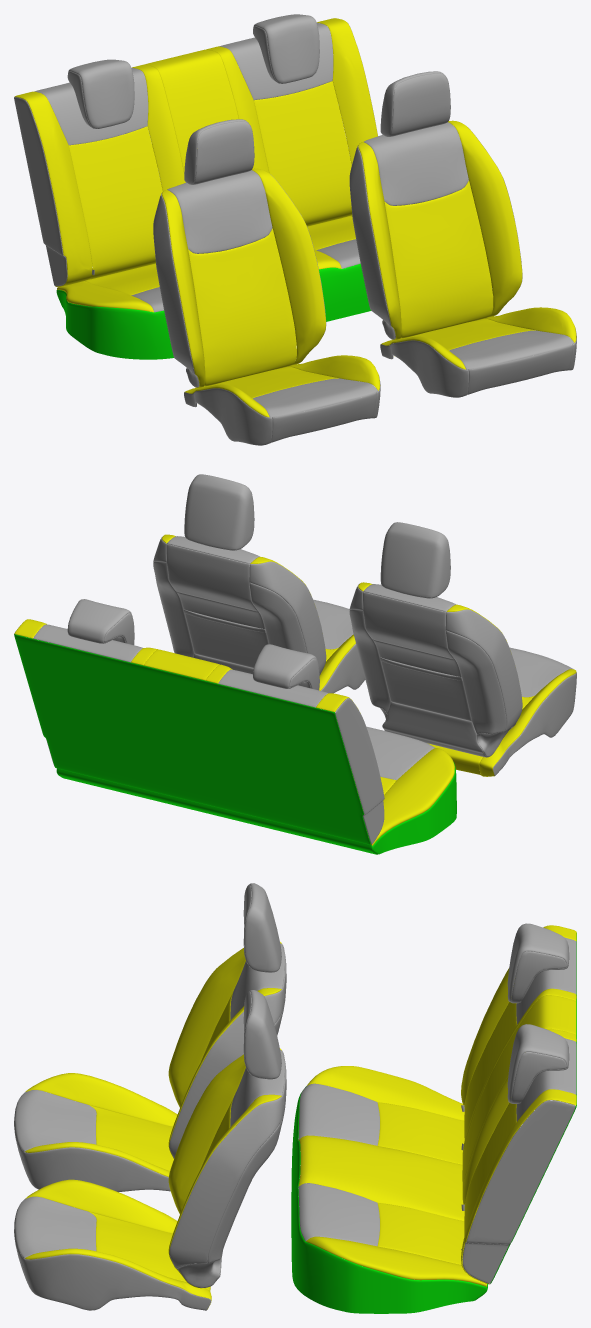
Rendered from TOYOTA_URBAN_CRUISER_MID_IN_SEAT_DEFAULT_MESH.glb.
The picture shows the model from 3 angles, top to bottom: view 1: azimuth 30°, elevation 25°; view 2: azimuth 150°, elevation 25°; view 3: azimuth 270°, elevation 25°; orthographic projection. The views are drawn at different scales.
Parts seen in each view (by area): view 1: TOYOTA_URBAN_CRUISER_MID_IN_SEAT_DEFAULT_MESH; view 2: TOYOTA_URBAN_CRUISER_MID_IN_SEAT_DEFAULT_MESH; view 3: TOYOTA_URBAN_CRUISER_MID_IN_SEAT_DEFAULT_MESH.
Part boxes in pixels (left/top/right/bottom): TOYOTA_URBAN_CRUISER_MID_IN_SEAT_DEFAULT_MESH: left=14, top=14, right=576, bottom=445; TOYOTA_URBAN_CRUISER_MID_IN_SEAT_DEFAULT_MESH: left=14, top=474, right=576, bottom=854; TOYOTA_URBAN_CRUISER_MID_IN_SEAT_DEFAULT_MESH: left=14, top=883, right=576, bottom=1313.
Bounding box in the file's own units: 1.3 × 0.8712 × 1.56.
